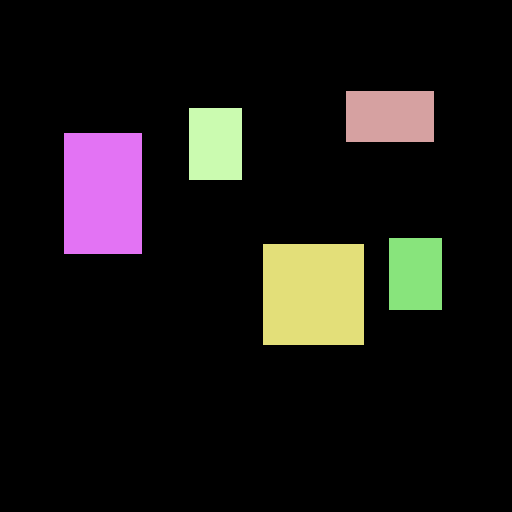rectangle: (64, 133, 141, 253), (346, 91, 433, 141), (389, 238, 441, 309), (189, 108, 241, 179)
square: (263, 244, 363, 344)
